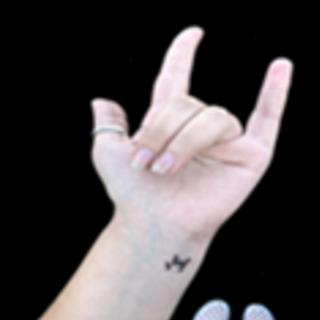ILY: (84, 22, 297, 241)
